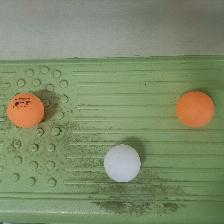WhiteBall: (103, 144, 140, 181)
YellowBall: (6, 92, 43, 128), (176, 91, 213, 127)
